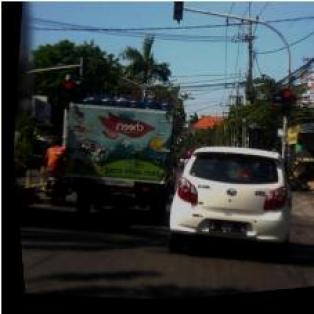Semaforo Rojo: (275, 93, 292, 123), (57, 77, 73, 108), (170, 1, 187, 25)
